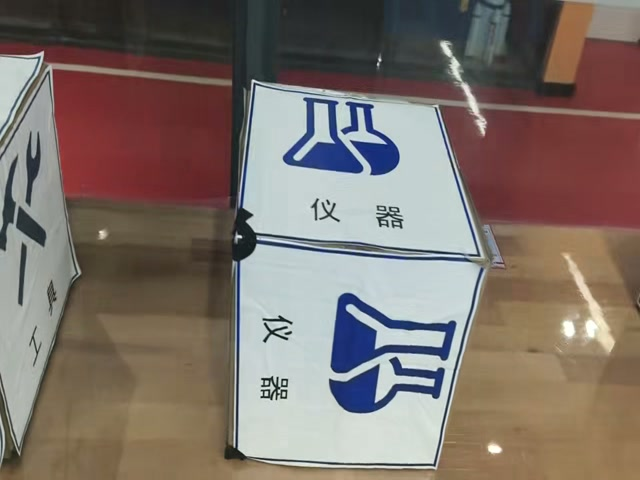Cube_ins: (237, 89, 496, 268)
Cube_tool: (0, 54, 50, 149)
